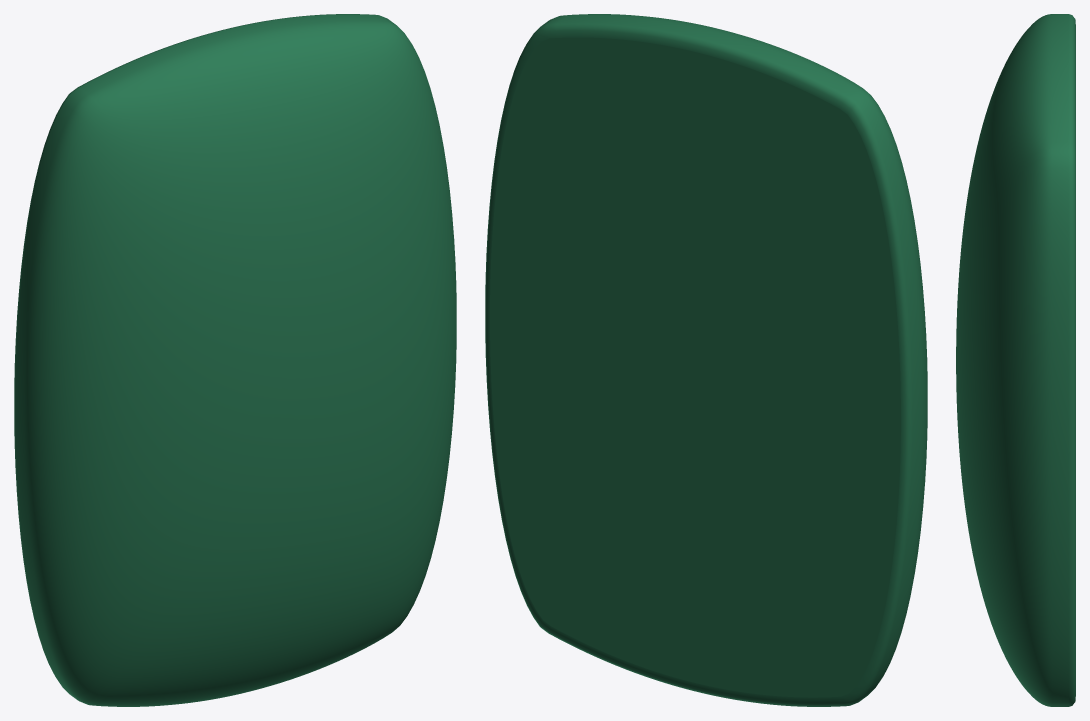
Rendered from bowed-rectangle.glb.
The picture shows the model from 3 angles, left to right: view 1: azimuth 30°, elevation 25°; view 2: azimuth 150°, elevation 25°; view 3: azimuth 270°, elevation 25°; orthographic projection. The views are drawn at different scales.
Visible parts, largest first — view 1: Bowed-Rectangle Cabochon 22x15x4mm; view 2: Bowed-Rectangle Cabochon 22x15x4mm; view 3: Bowed-Rectangle Cabochon 22x15x4mm.
Part boxes in pixels (x1,y1,x2,y2): Bowed-Rectangle Cabochon 22x15x4mm: (14,14,456,706); Bowed-Rectangle Cabochon 22x15x4mm: (485,14,927,706); Bowed-Rectangle Cabochon 22x15x4mm: (956,14,1075,706).
Size of the model in its own units: 0.015 by 0.022 by 0.00398.
